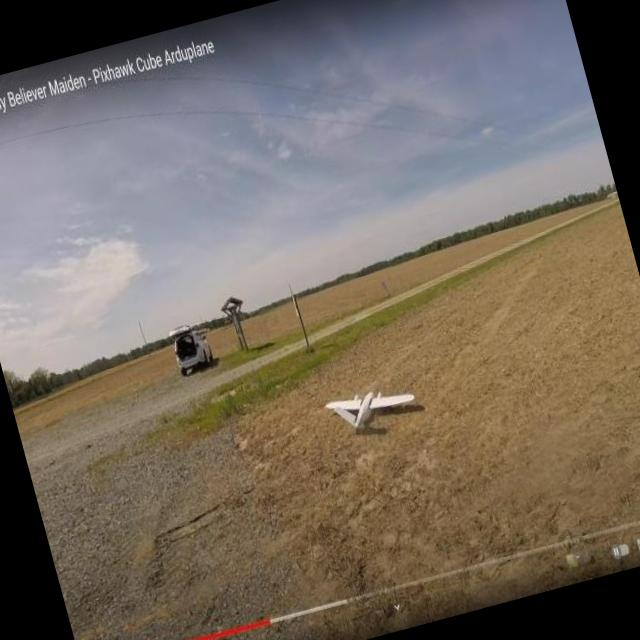UAV: (331, 366, 428, 444)
